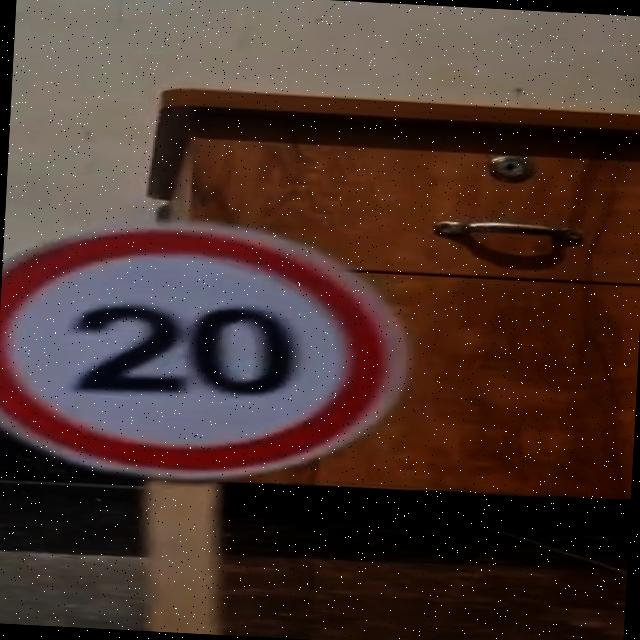Speed20: (0, 203, 436, 503)
